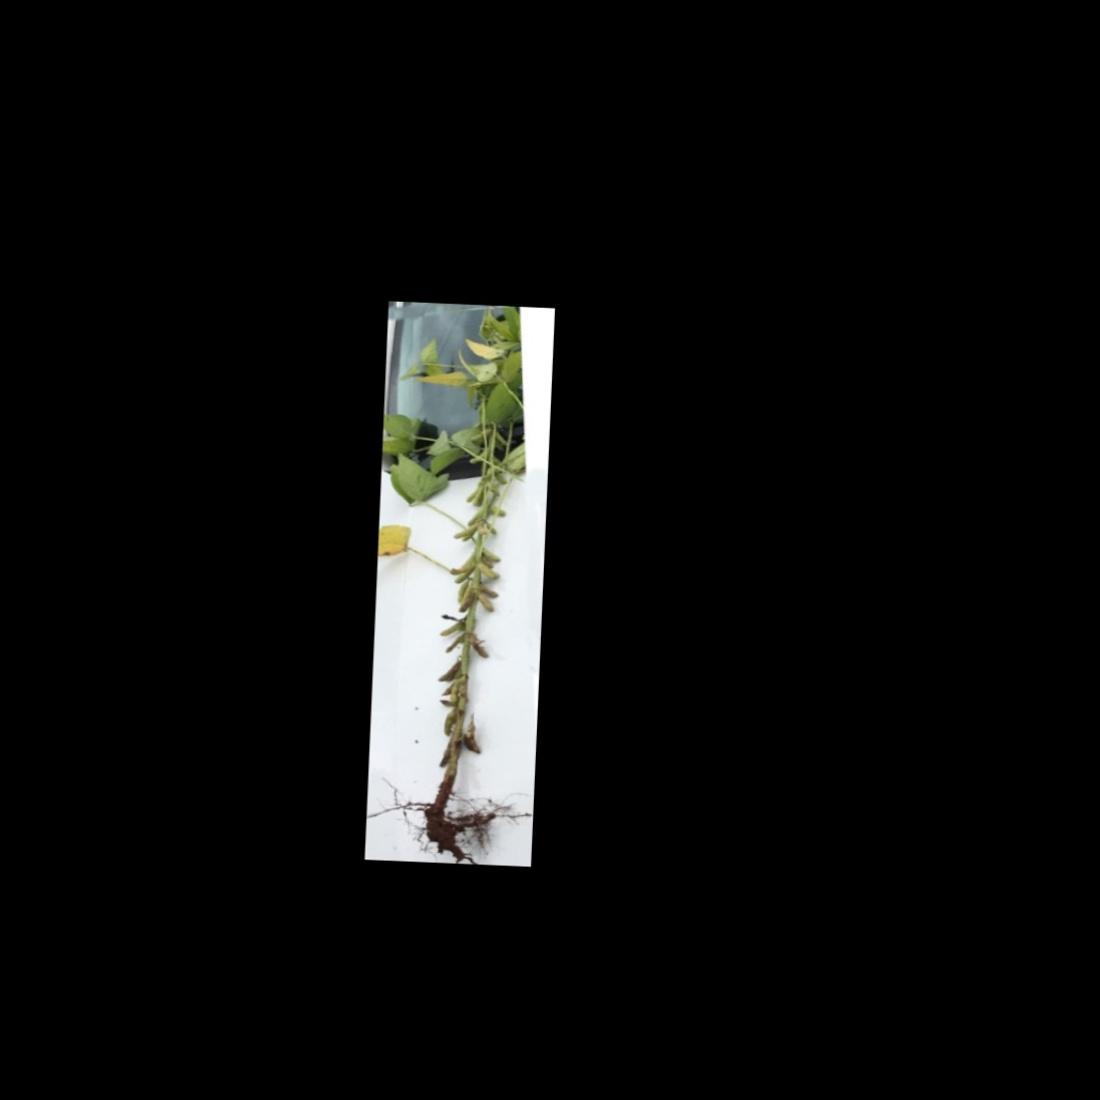pod: (474, 591, 500, 616), (451, 521, 480, 542), (453, 563, 476, 586), (477, 545, 502, 564), (466, 445, 488, 465), (475, 562, 499, 580), (486, 502, 509, 519)
soy: (373, 306, 543, 852)
